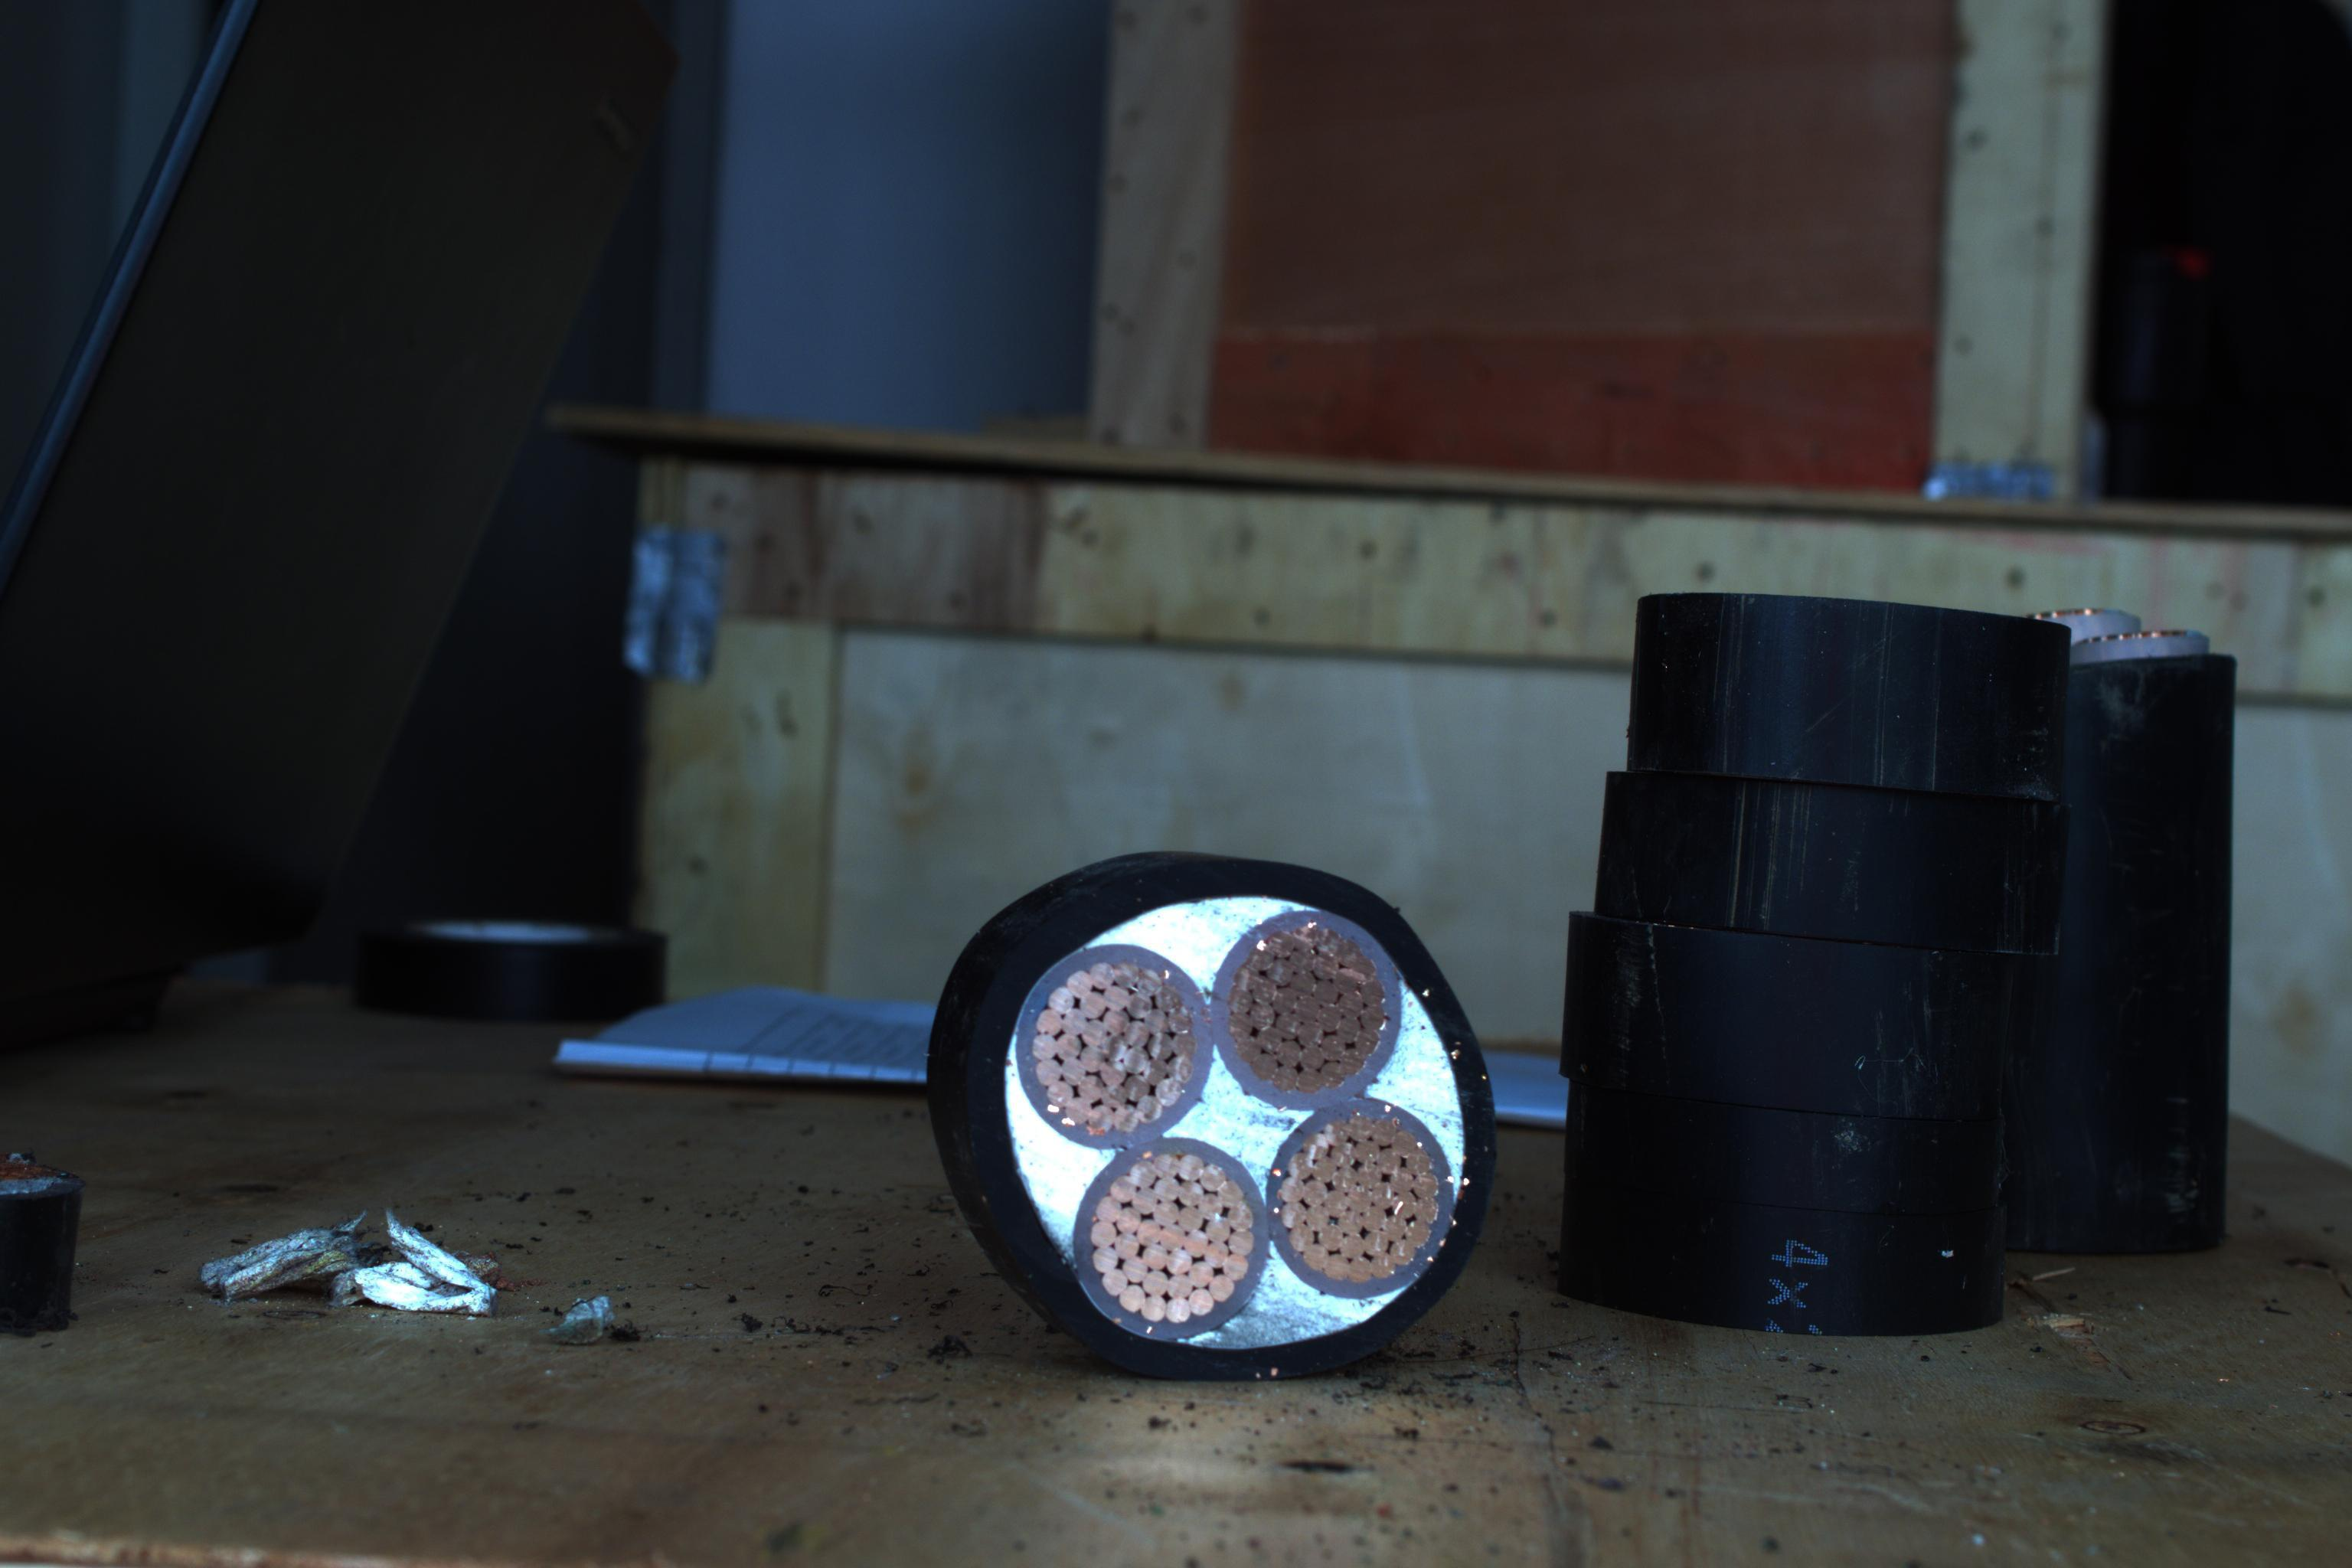YJV_0.6_1kV_4x240: (990, 870, 1494, 1384)
